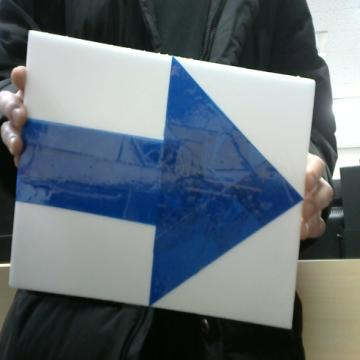blue_right: (16, 58, 302, 304)
